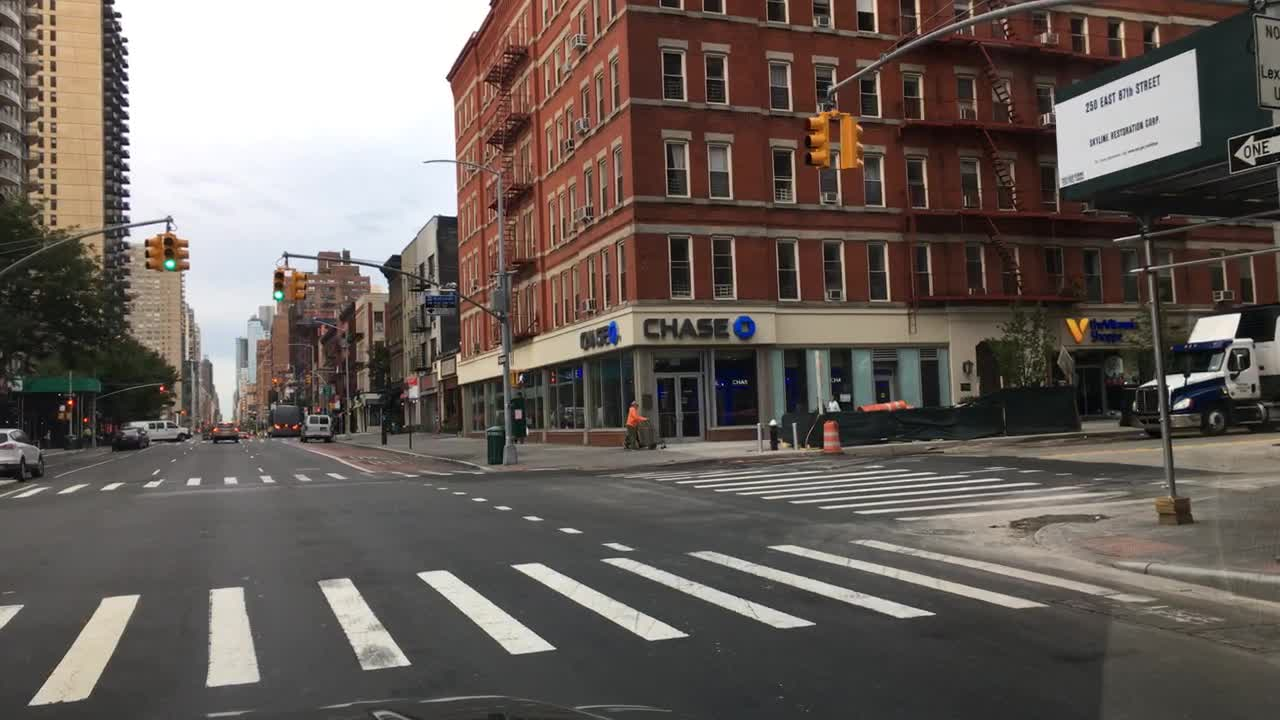car: (0, 427, 45, 483), (126, 418, 191, 442), (266, 403, 303, 436), (299, 414, 334, 442), (111, 425, 149, 449), (210, 420, 239, 442), (93, 430, 113, 444), (200, 423, 213, 440), (237, 429, 251, 438), (193, 424, 201, 432)
person: (622, 401, 648, 452), (512, 393, 530, 444), (825, 393, 840, 413), (82, 422, 92, 449)
traffic light: (844, 115, 866, 168), (806, 114, 827, 168), (162, 234, 179, 272), (142, 234, 158, 271), (175, 235, 190, 270), (272, 268, 284, 302), (295, 271, 307, 303), (513, 370, 526, 383), (269, 375, 277, 388), (304, 371, 309, 386), (159, 381, 164, 395), (178, 405, 185, 415), (81, 414, 87, 425), (314, 405, 322, 412), (67, 398, 73, 407)
traffic sign: (1226, 123, 1279, 180), (1253, 12, 1279, 108), (422, 292, 457, 314), (407, 375, 417, 400), (322, 383, 332, 395), (496, 353, 506, 364), (62, 392, 75, 396)
truck: (1130, 304, 1277, 436)
